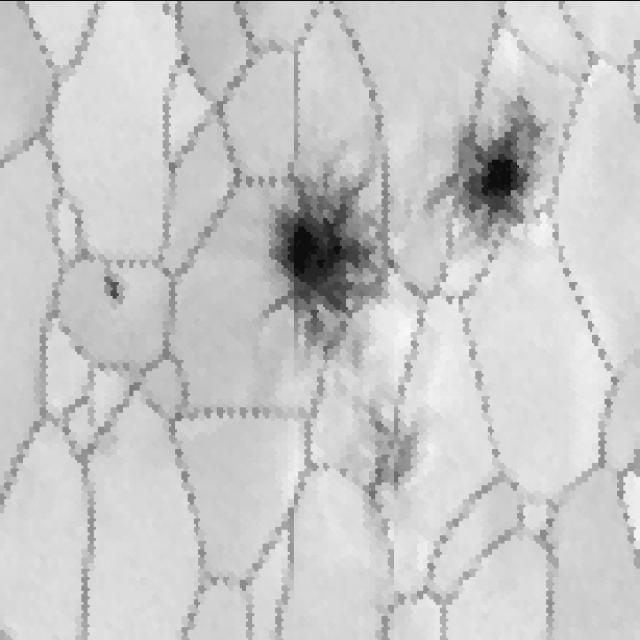good_void: (257, 146, 400, 358), (419, 90, 553, 272), (353, 396, 429, 504), (96, 264, 130, 315), (158, 0, 175, 15)
